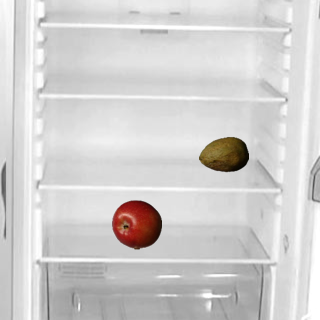Apple Braeburn: (111, 199, 161, 249)
Papaya: (198, 129, 248, 179)
